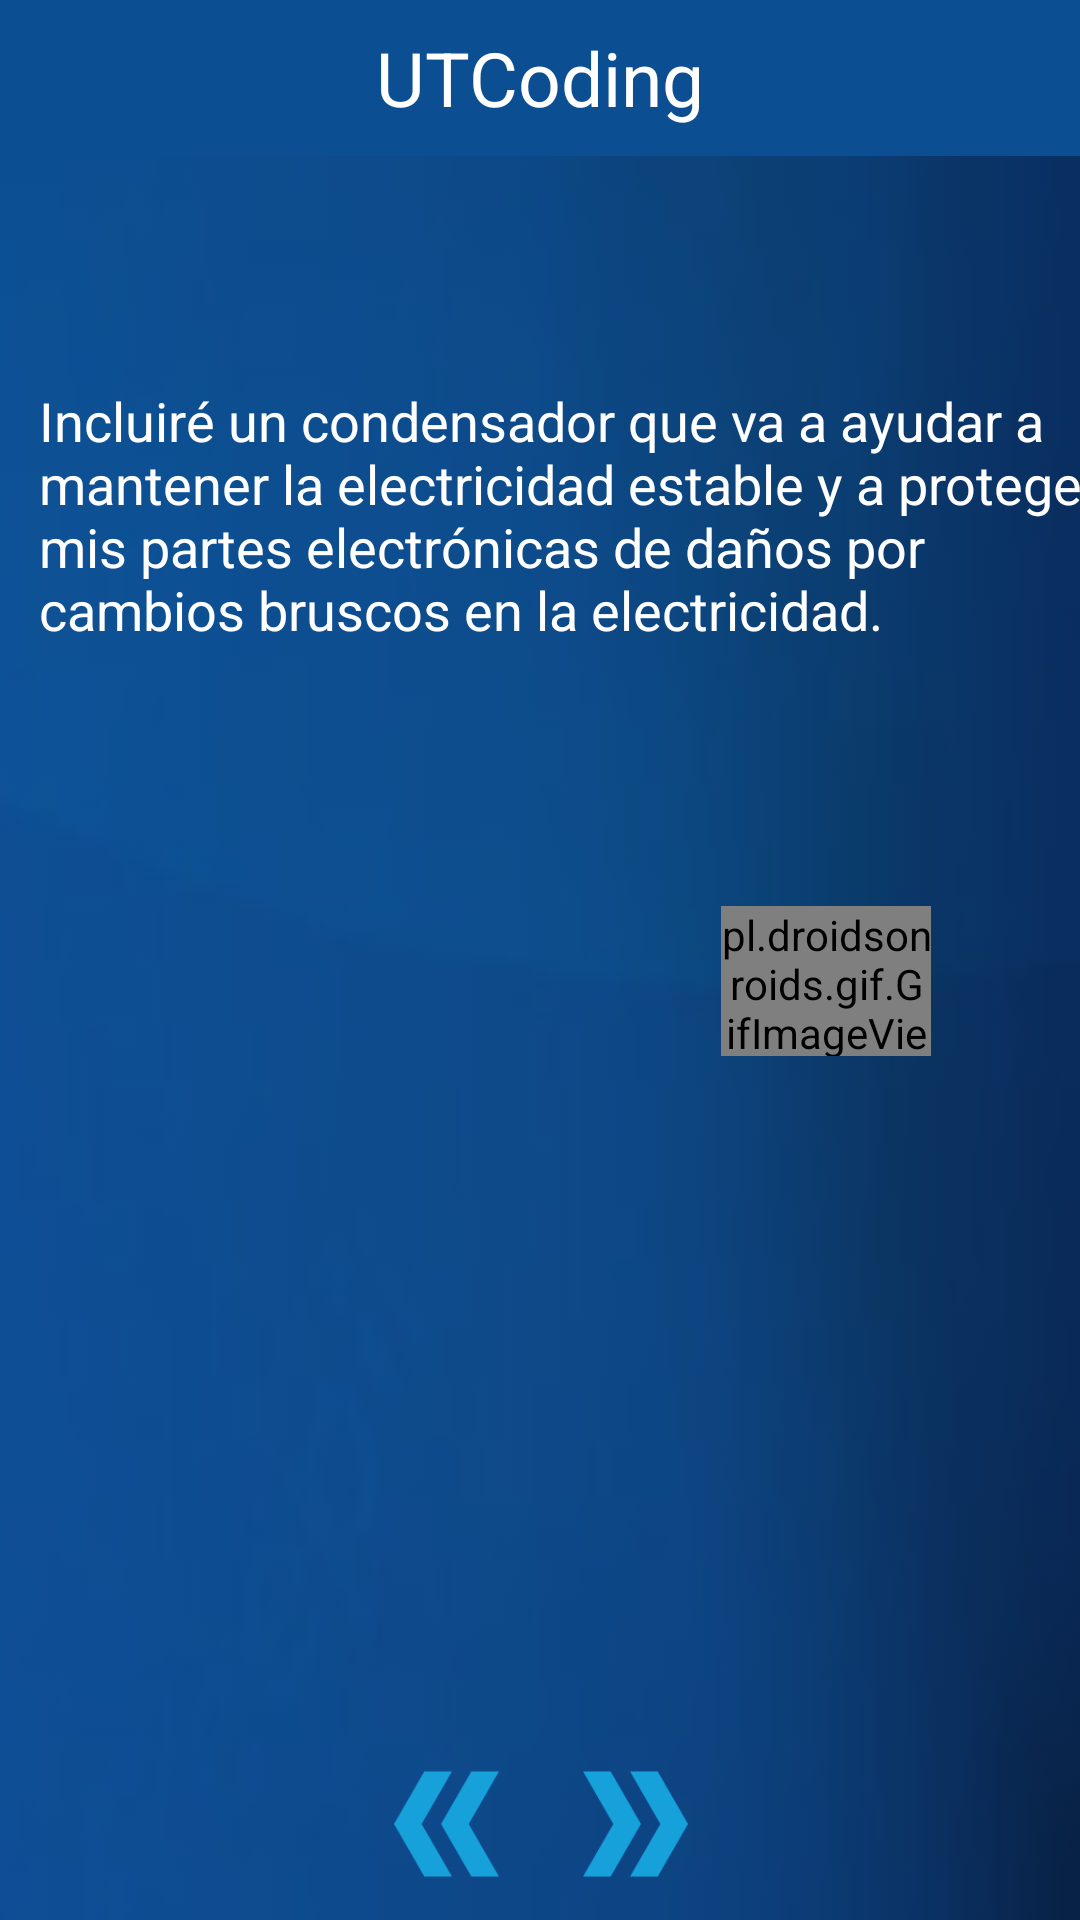

Point at icon controls on the screen. Image size 1080w x 1920h, points as point (x, y).
regresar: point (446, 1824)
siguiente: point (635, 1824)
